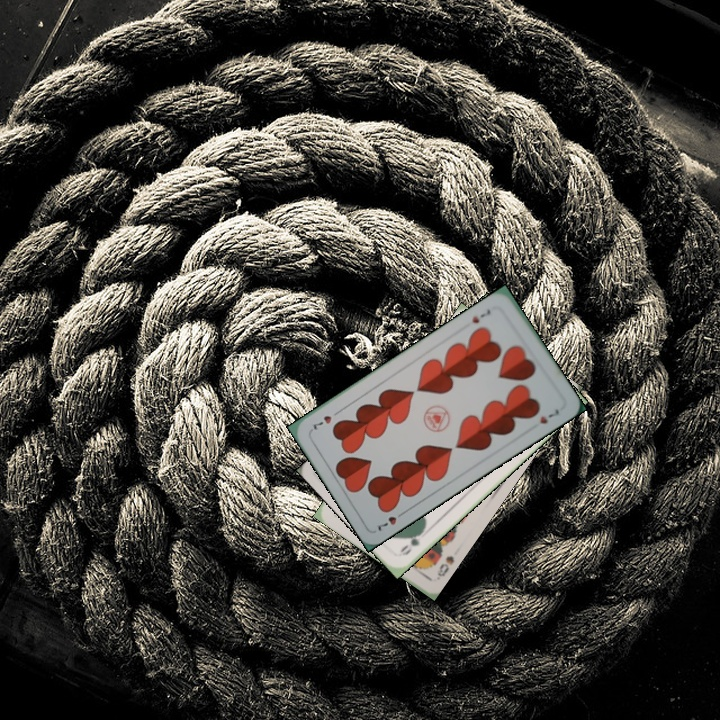GO: (396, 525, 427, 558)
H7: (374, 507, 409, 534), (468, 305, 493, 326)
S8: (432, 552, 457, 583)
